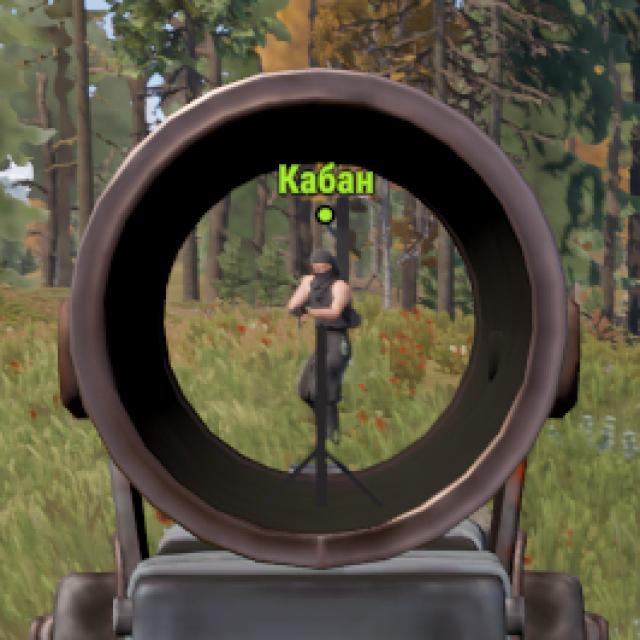Player: (289, 250, 351, 320)
